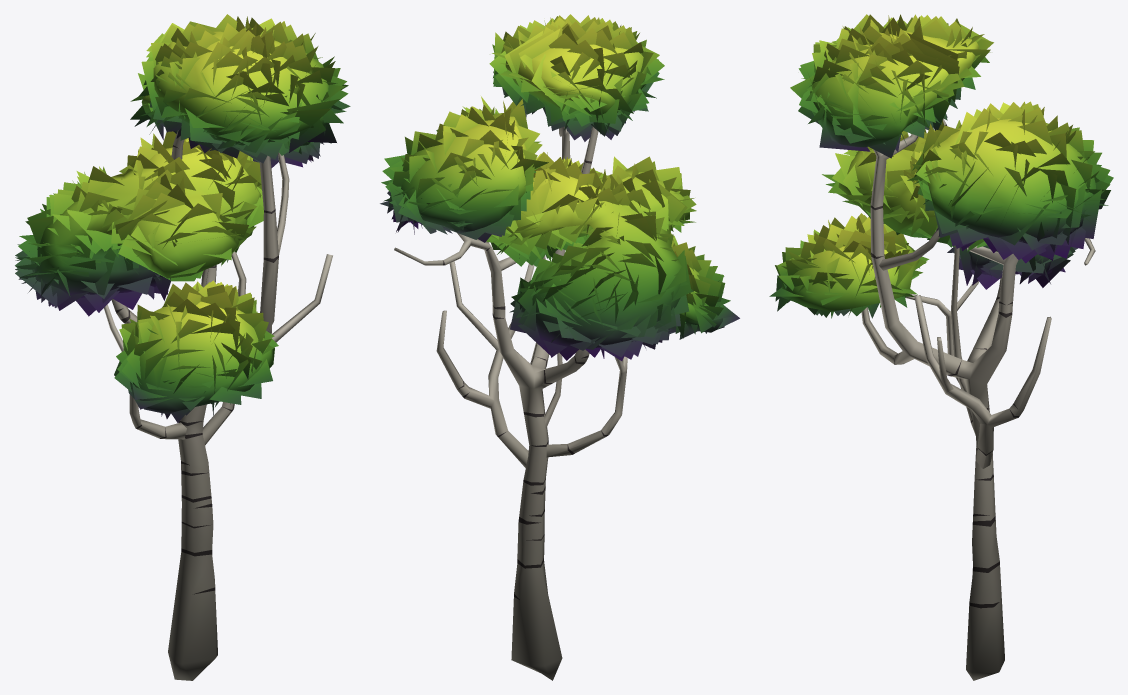
File: Forest_Tree_9A.fbx
3 views of the same model, side by side, from view 1: azimuth 30°, elevation 25°; view 2: azimuth 150°, elevation 25°; view 3: azimuth 270°, elevation 25° (orthographic). The views are drawn at different scales.
Visible parts, largest first — view 1: Forest_Tree_9A; view 2: Forest_Tree_9A; view 3: Forest_Tree_9A.
Part boxes in pixels (x1,y1,x2,y2): Forest_Tree_9A: [15, 14, 350, 680]; Forest_Tree_9A: [380, 14, 739, 680]; Forest_Tree_9A: [769, 14, 1113, 680].
Size of the model in its own units: 348 by 730 by 346.
